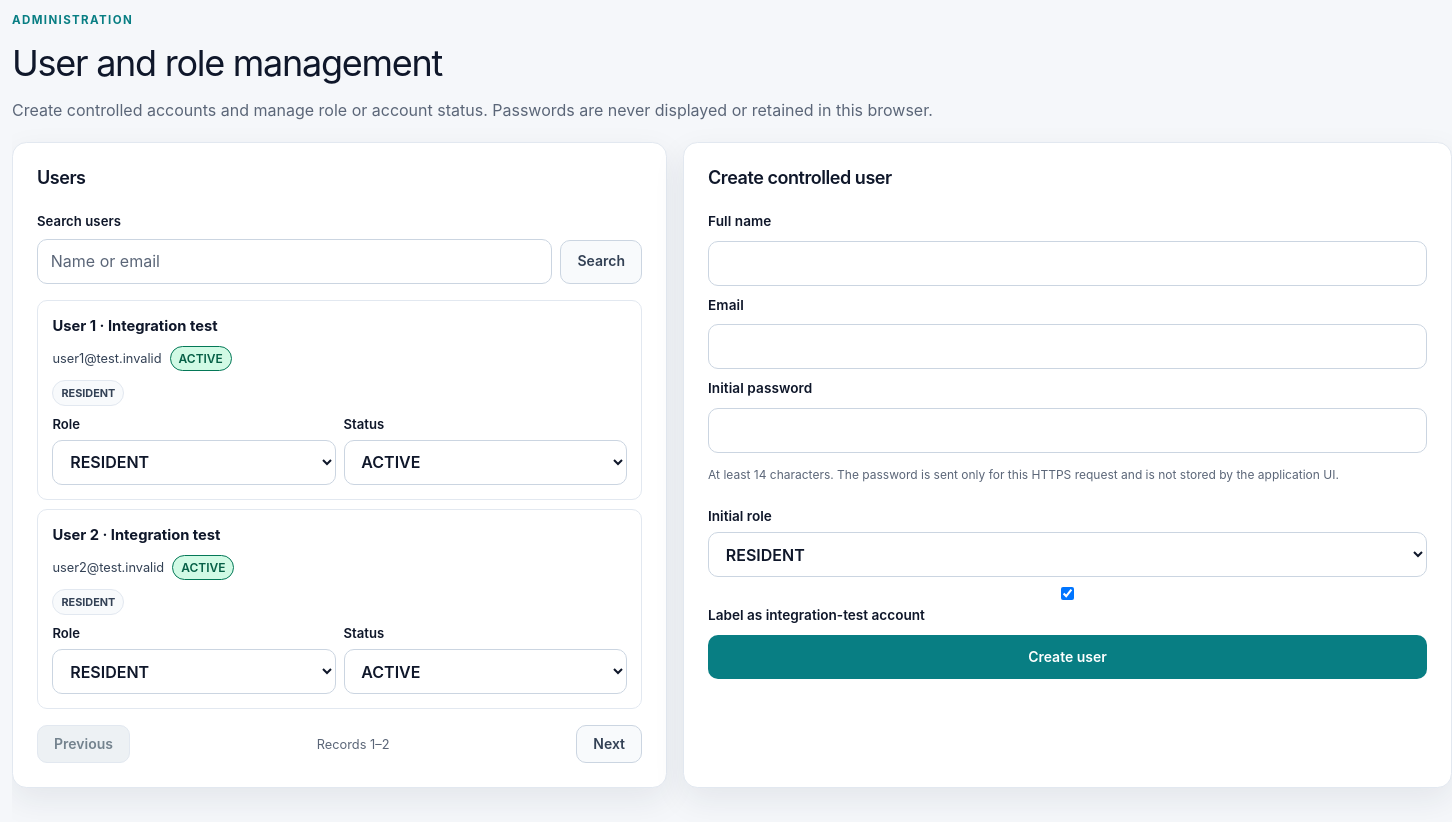
Test: UsersPage › uses the returned record count for ranges and prevents advancing past the last page
The image size is (1452, 822).
Expected: the dropdown named "Role for User 1" is shown, [52,440,336,485]
Click the button "Next": [609, 744] box [576,726,642,764]
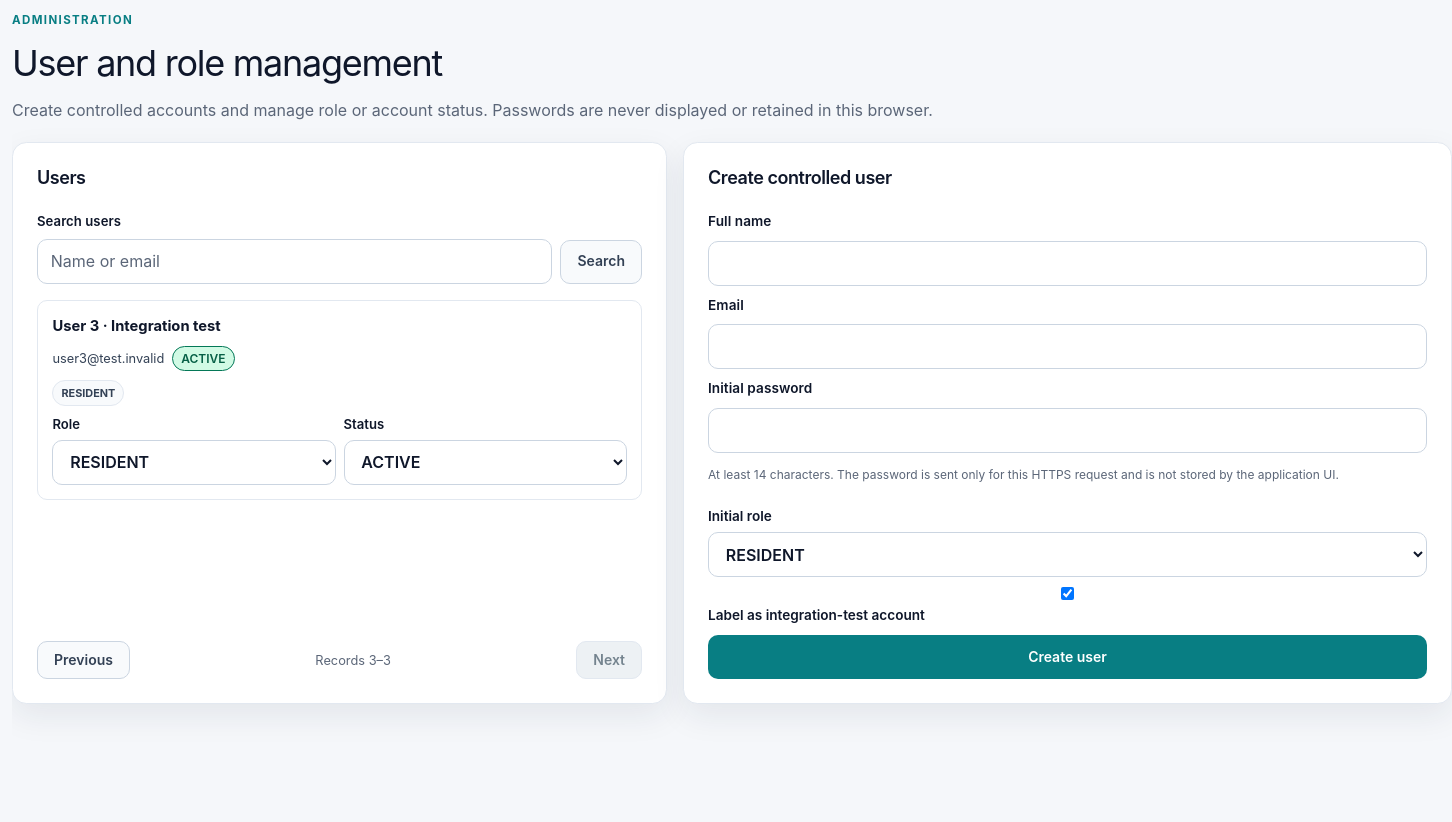
Now the text "Records 3–3" is shown, box [315,650,391,670]
Now the button "Next" is disabled, box [576,641,642,679]
